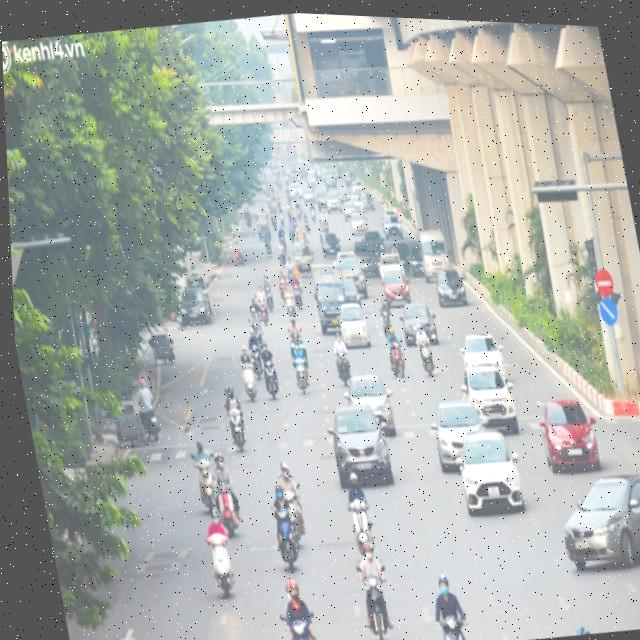car: (549, 461, 640, 576), (452, 426, 528, 521), (323, 399, 398, 493), (529, 393, 608, 480), (427, 396, 497, 480), (457, 362, 521, 441), (340, 369, 400, 443), (453, 326, 512, 388), (309, 261, 354, 337), (398, 299, 443, 350), (336, 300, 373, 352), (433, 268, 469, 310), (380, 268, 412, 307)
motorcycle: (353, 560, 402, 640), (203, 529, 242, 600), (267, 504, 305, 573), (184, 447, 222, 516), (342, 499, 377, 560), (210, 479, 245, 539), (223, 402, 250, 460), (382, 337, 412, 383), (432, 612, 477, 640), (260, 358, 284, 408), (237, 360, 262, 405), (413, 336, 438, 378), (281, 615, 321, 640), (289, 353, 311, 396), (330, 346, 352, 387), (282, 293, 299, 322)
